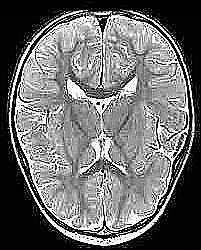Normal_Brain: (3, 4, 201, 250)
